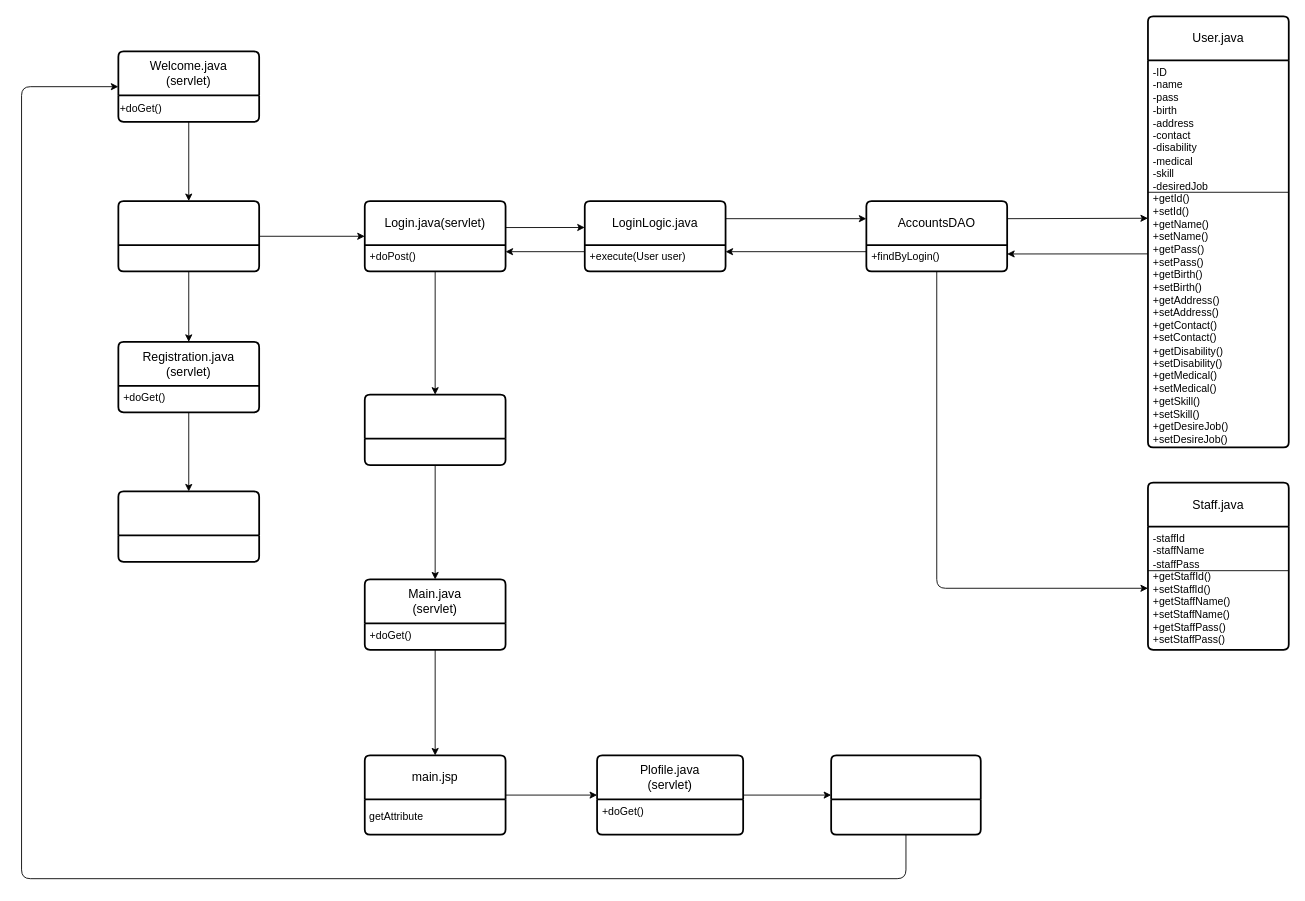
Some shapes in this 1305 by 901 pixel diagram are drawn without their labels. Here are the shapes that lost their labels. From the top down, the centre of each, then its label:
(188,236): index.jsp
(434,429): login.jsp
(188,526): registration.jsp
(905,794): plofile.jsp
